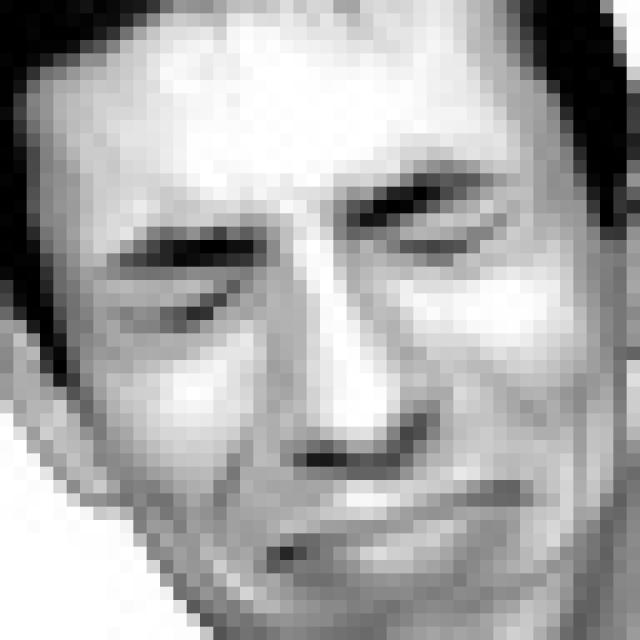sad: (89, 155, 612, 618)
